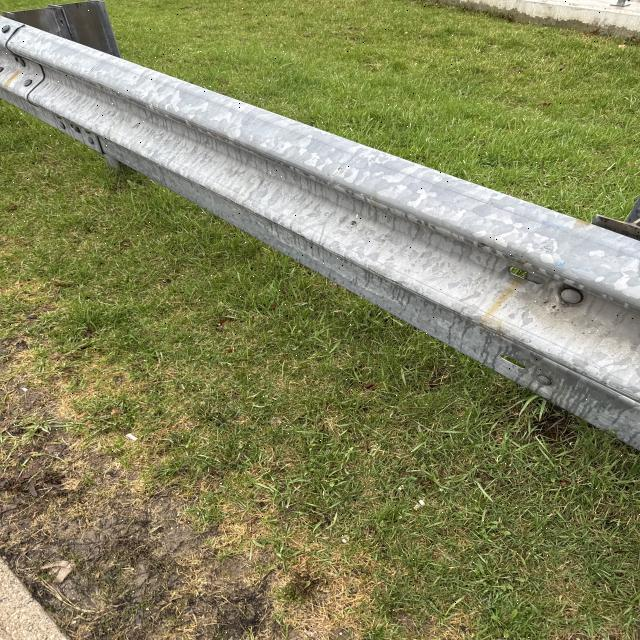Guard rail: (0, 29, 609, 420)
